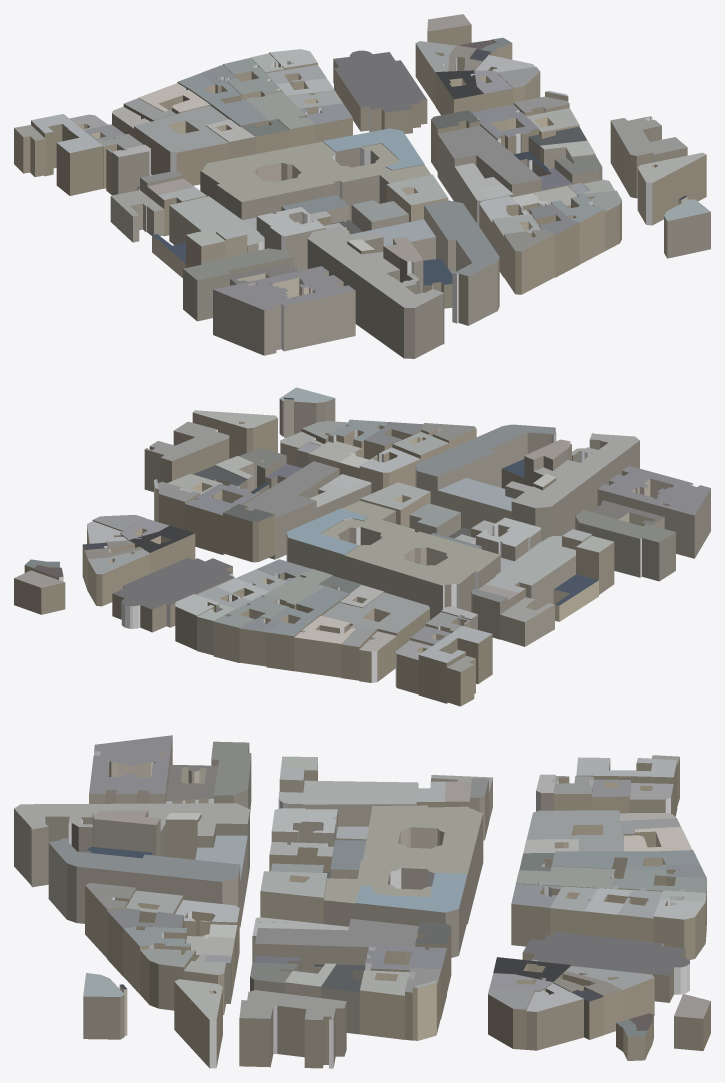
3 views of the same model, one above another, from view 1: azimuth 30°, elevation 25°; view 2: azimuth 150°, elevation 25°; view 3: azimuth 270°, elevation 25° (orthographic). The views are drawn at different scales.
Visible parts, largest first — view 1: tuile; view 2: tuile; view 3: tuile.
Boxes of the visible parts, x1,y1,x2,y2 form: tuile: (14,14,710,358); tuile: (14,387,710,706); tuile: (14,735,710,1068).
Size of the model in its own units: 275 by 32.77 by 286.
